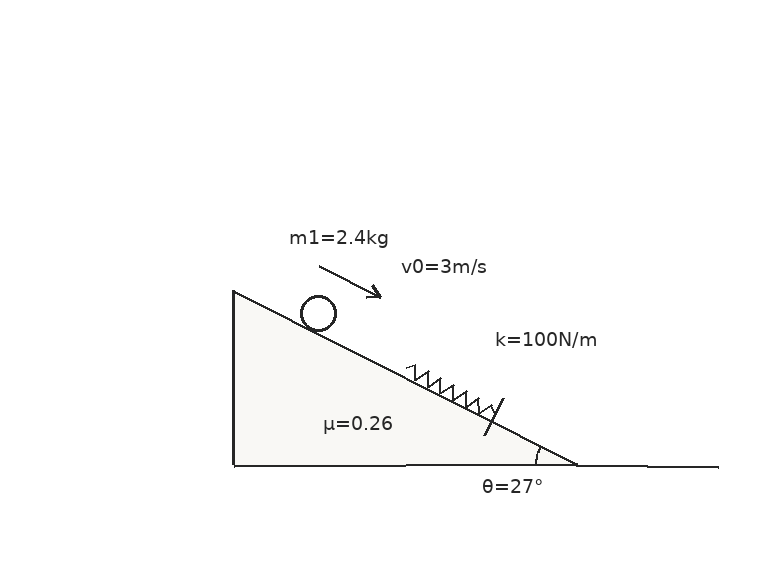ball: (298, 293, 338, 333)
ramp: (232, 289, 578, 467)
spring: (404, 363, 497, 415)
